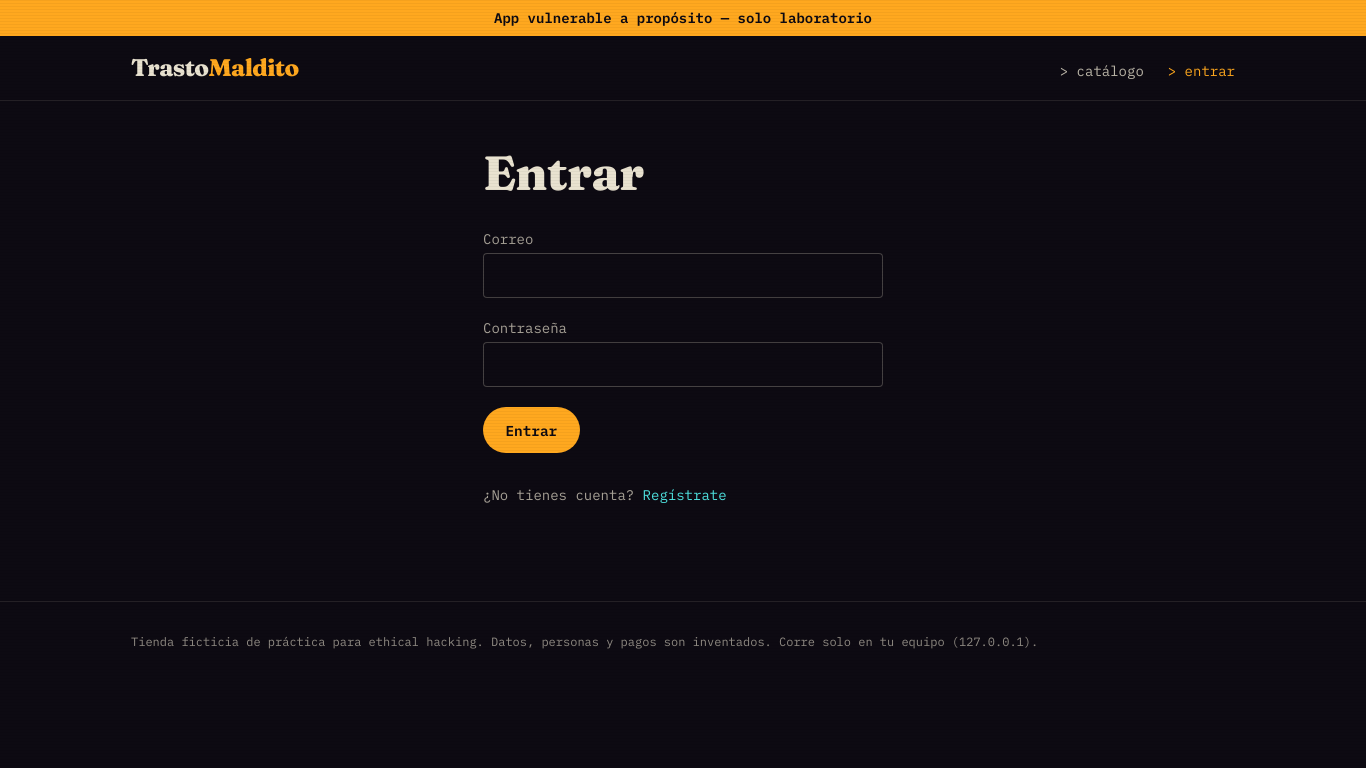
Test: sesión (F1) › entrar: envía credenciales, guarda la sesión y muestra el nav de cliente
Type "ana@lab.test" into the field labelled "Correo" at (683, 276), box [483,253,883,298]
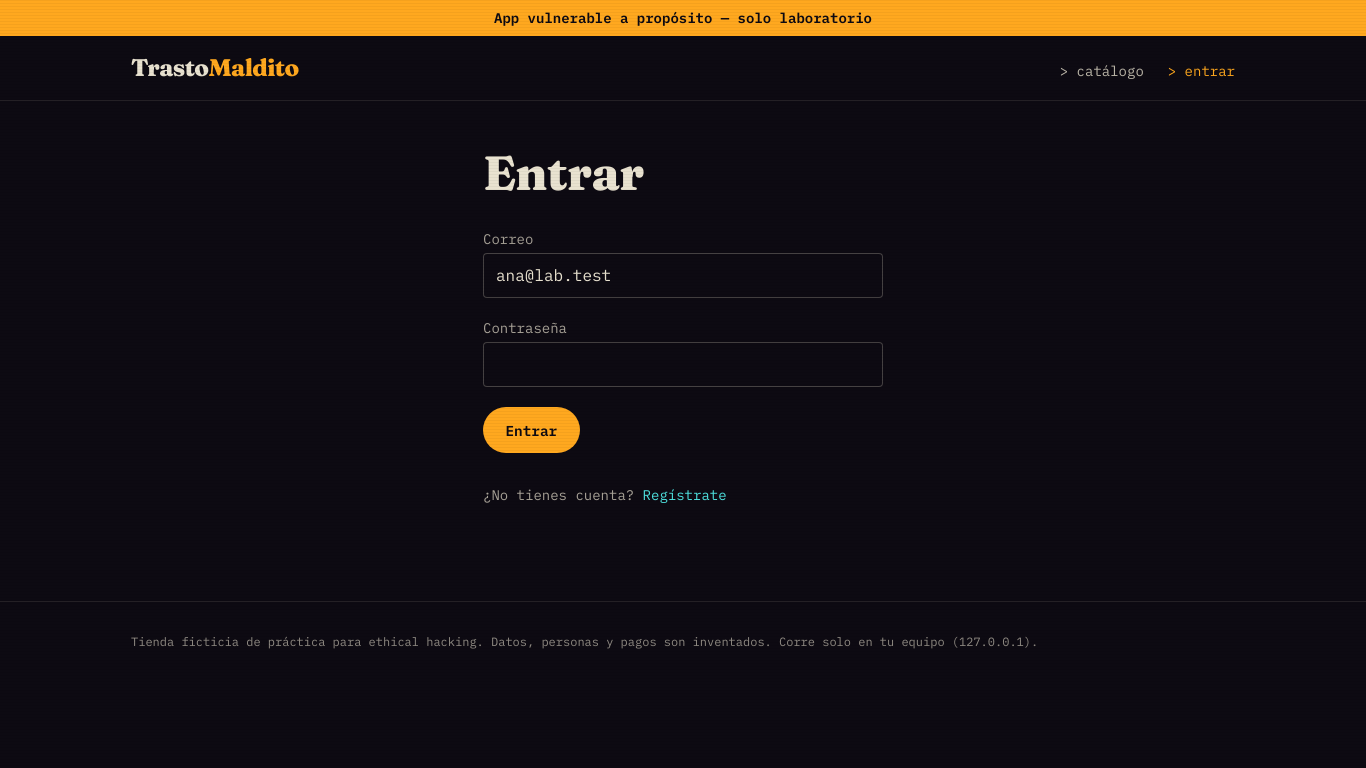
Type "secreta-123" into the password field labelled "Contraseña" at (683, 365), box [483,342,883,387]
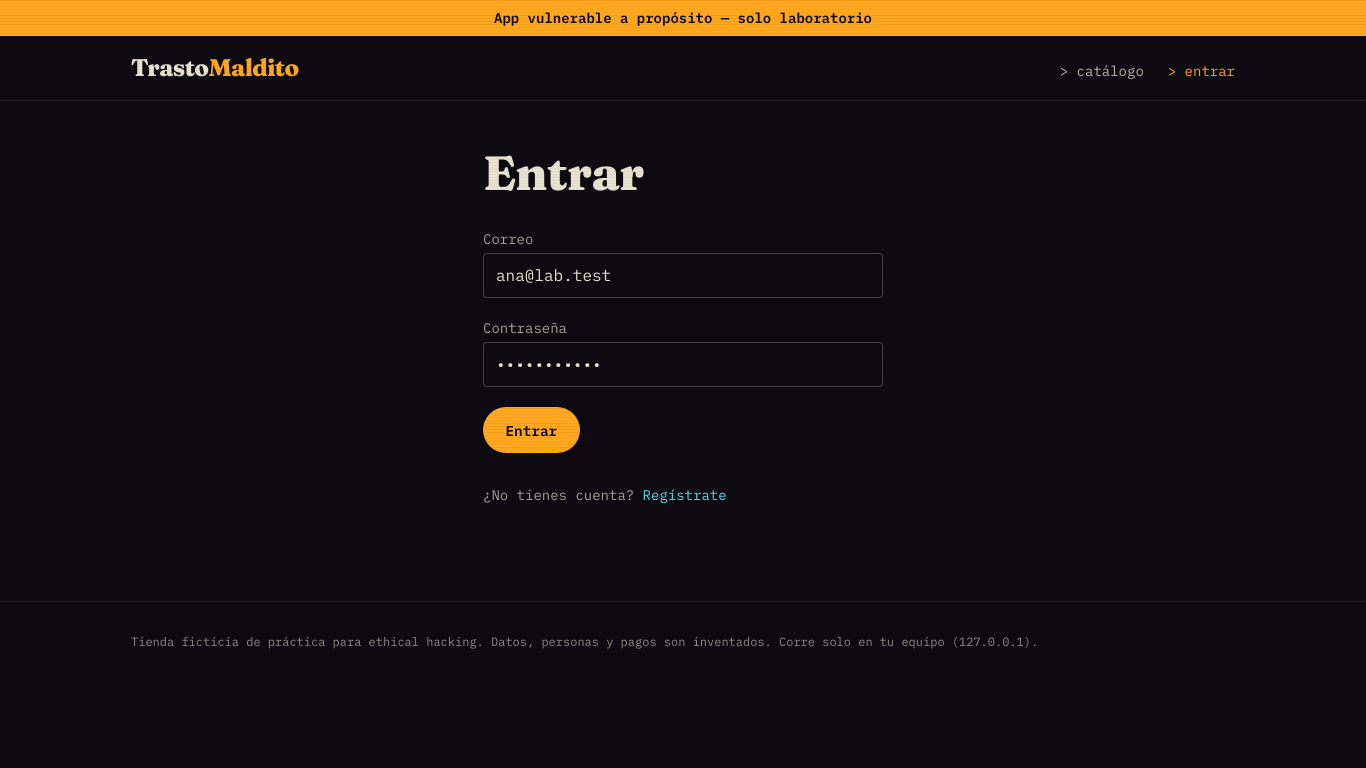
Click the button "Entrar" at (531, 430), box [483,407,580,453]
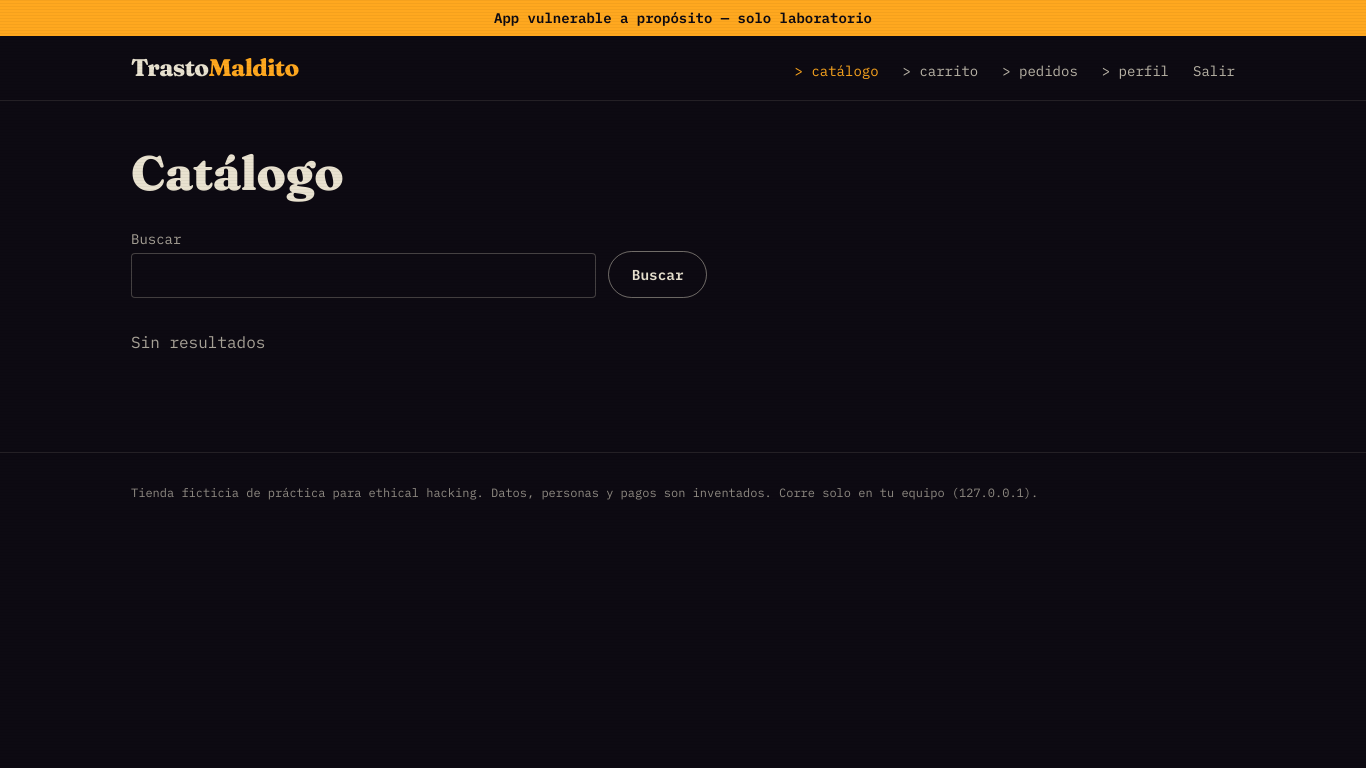
Result: the heading "Catálogo" is shown at [131,143,343,202]
Result: the link "> carrito" is shown at [903,61,978,81]
Result: the link "> pedidos" is shown at [1002,61,1078,81]
